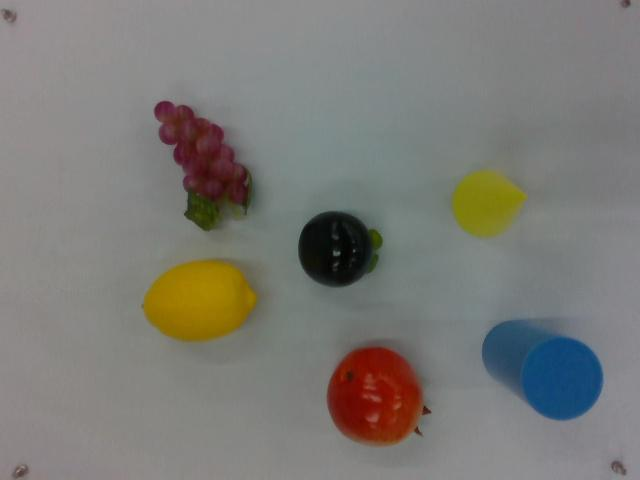cone: (450, 163, 531, 247)
cylinder: (479, 317, 605, 423)
grape: (152, 99, 254, 234)
lemon: (142, 256, 259, 341)
mangosteen: (299, 209, 382, 290)
pomegranate: (326, 342, 429, 449)
